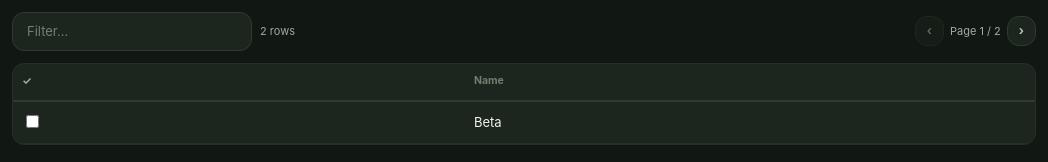
Scenario: v2 data table › sorts, filters, and paginates
This screenshot has width=1048, height=162.
Step 1. Click the button with aria-label "Sort by Name" → (489, 82), box [474, 73, 504, 90]
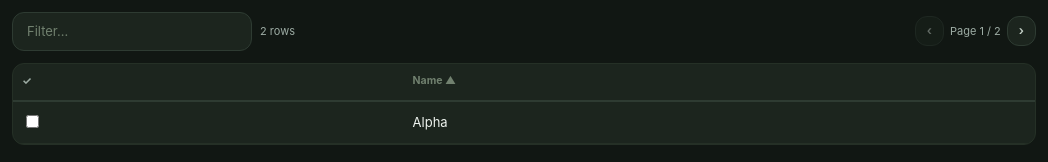
expect the text "Alpha" is shown: met, box [413, 114, 448, 130]
Step 2. Type "Beta" into the field named "Filter table" → (132, 31), box [12, 12, 252, 51]
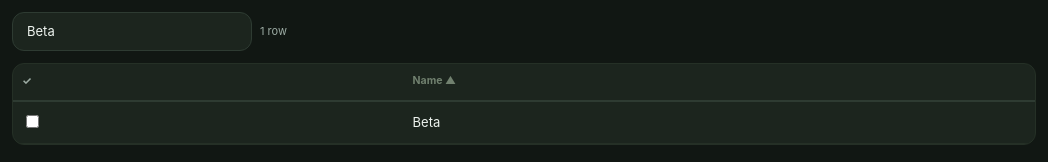
expect the text "Beta" is shown: met, box [413, 114, 440, 130]
